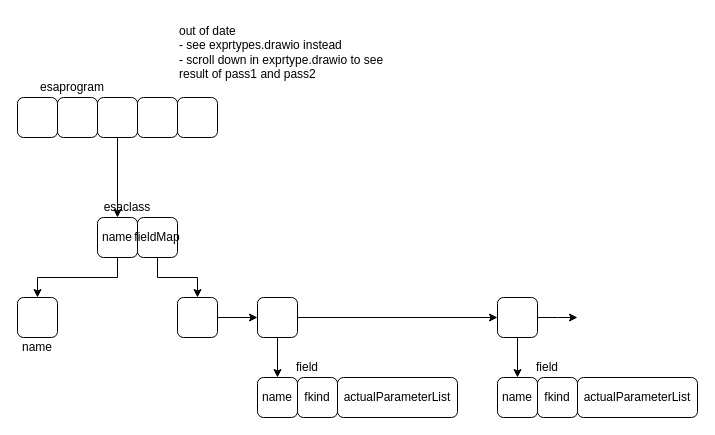
Some shapes in this 715 by 435 pixel diagram are drawn without their labels. The shapes that lost their labels are listed below. From the top down, each one's centre as x and y in pixels, then its label:
At (37,317): ":string".
At (197,317): ":map".
